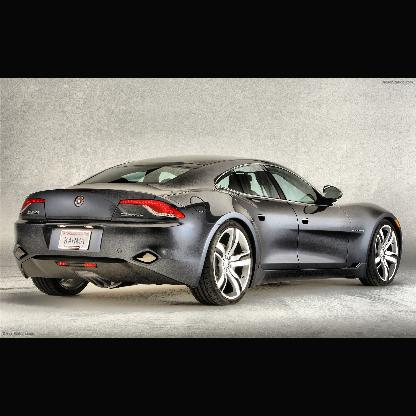Fisker Karma Sedan 2012: (15, 157, 403, 307)
